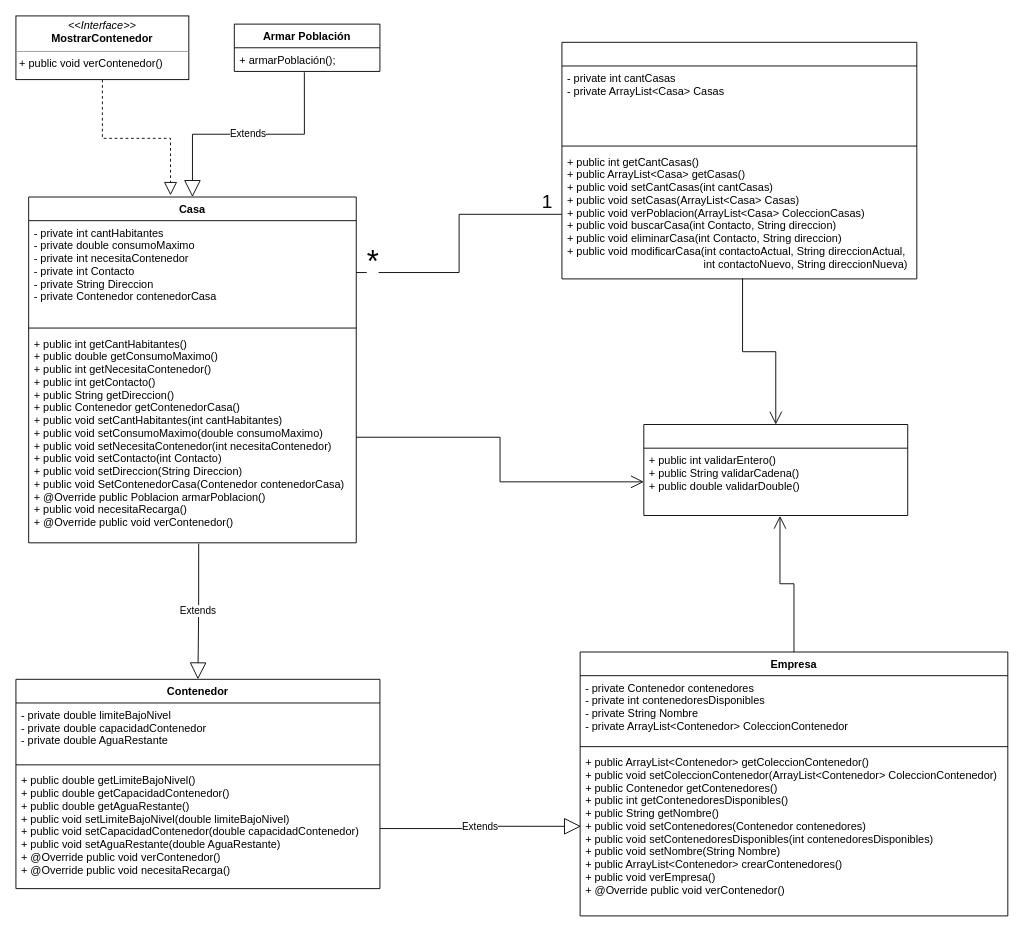
This 1024x935 diagram has some shape labels left out. Here are the shapes that lost their labels. From the top down, the box of each, then its label:
(561, 41, 917, 279): Población
(643, 424, 908, 516): Validacion
